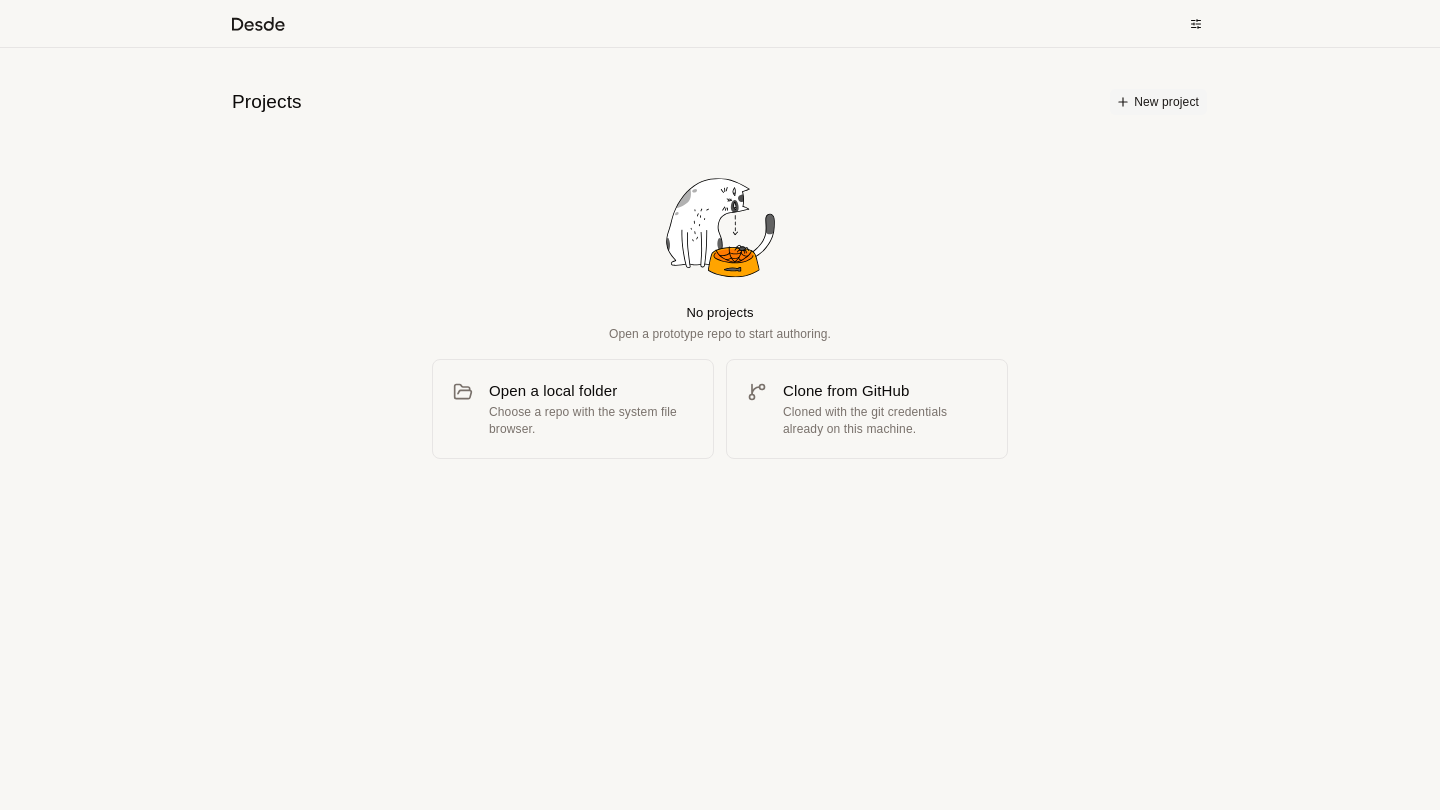
Test: LauncherPage — empty-state local tile › opens the New Project dialog instead of invoking the folder picker directly
Click the button with test id "launcher-empty-open-local" at {"x": 573, "y": 409}, box [432, 359, 714, 459]
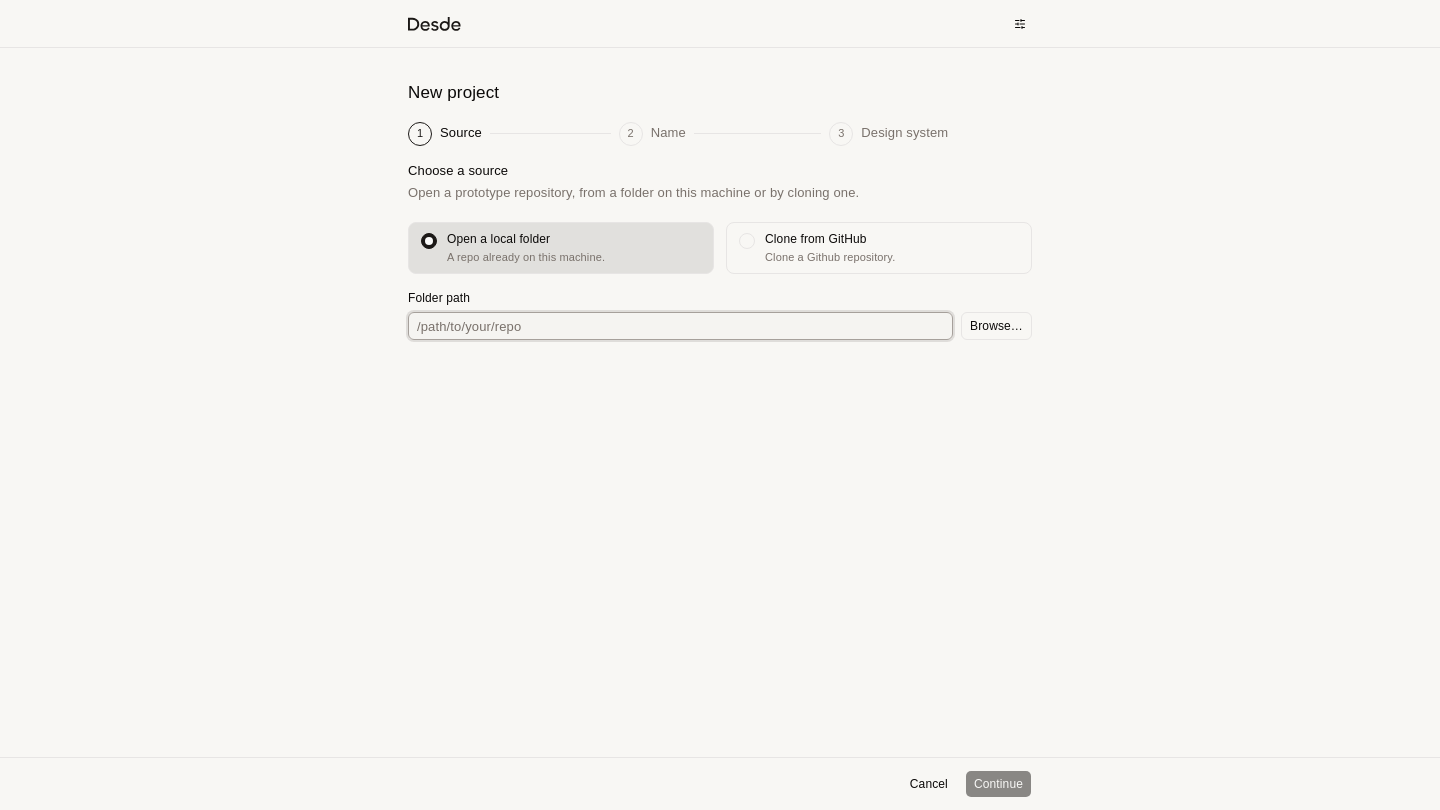
Result: the element with test id "new-project-page" is shown
Result: the form with test id "new-project-local-step" is shown at [408, 290, 1032, 340]
